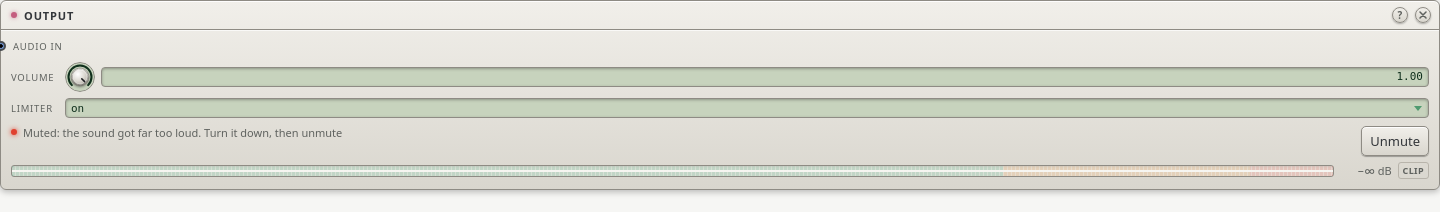
ModuleNode › an output that went quiet › says why it went quiet, and unmutes it
Check: the message shows "Muted: the sound got far too loud", box [23, 125, 342, 140]
Click the button "Unmute". click: (1395, 141)
box: [1361, 126, 1429, 156]
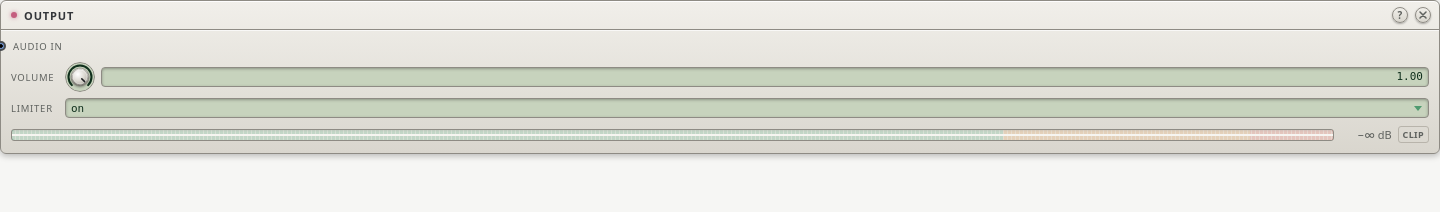
Check: the message "Muted: the sound got far too loud. Turn it down, then unmute" is gone
